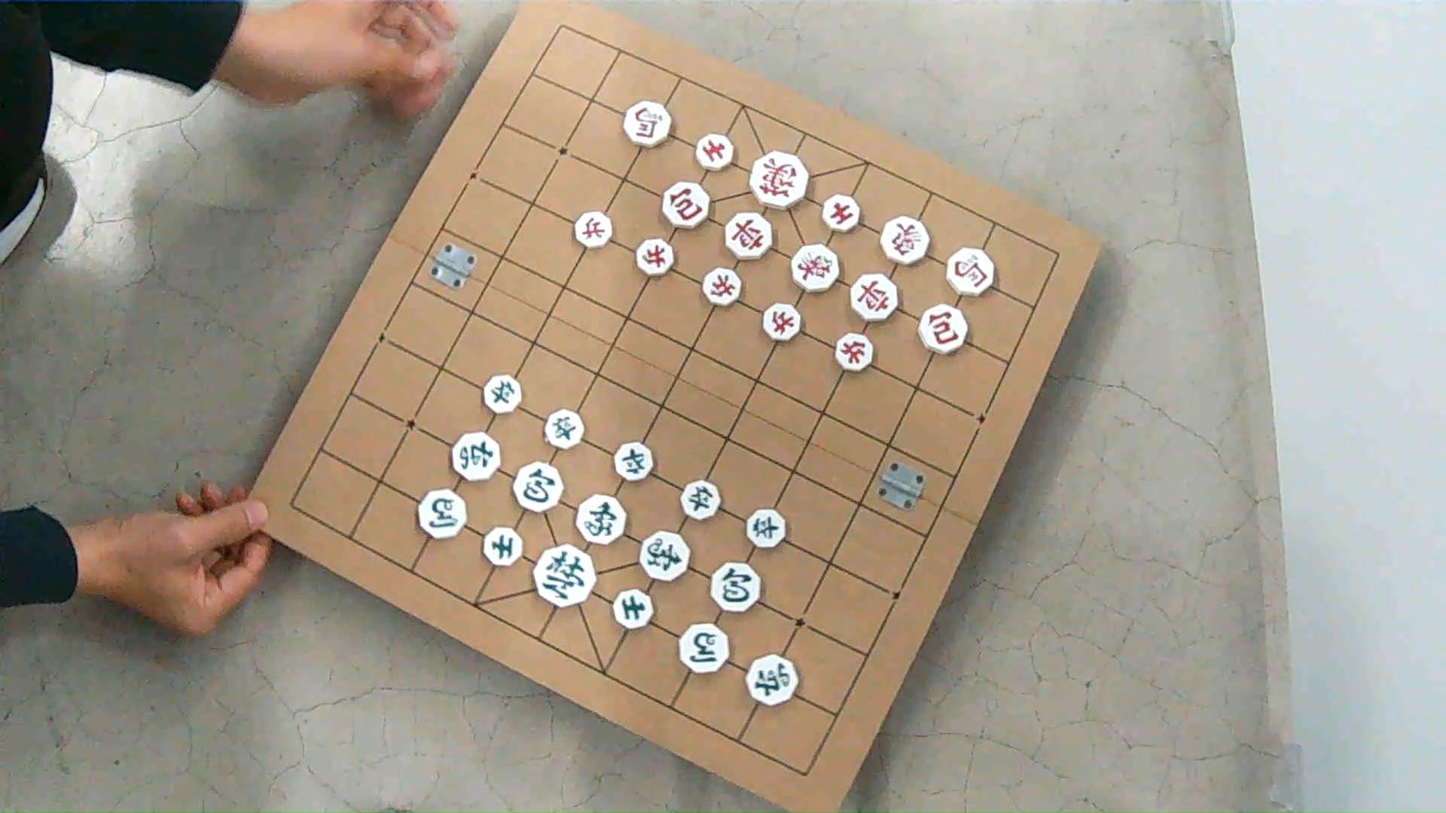cha_green: (745, 655, 798, 705), (450, 432, 499, 481)
cha_red: (850, 273, 898, 322), (725, 212, 772, 260)
jol_green: (680, 480, 720, 519), (746, 509, 786, 548), (544, 409, 583, 449), (483, 374, 521, 413), (615, 442, 651, 481)
jol_red: (762, 303, 801, 341), (702, 267, 740, 306), (835, 333, 874, 371), (574, 211, 612, 248), (635, 239, 673, 276)
ma_green: (679, 623, 728, 673), (417, 489, 465, 539)
ma_red: (945, 248, 994, 296), (624, 101, 670, 147)
po_green: (513, 461, 563, 512), (710, 562, 760, 612)
po_red: (918, 305, 967, 354), (661, 182, 708, 228)
sa_green: (612, 589, 653, 629), (483, 527, 521, 566)
sa_red: (822, 194, 859, 232), (696, 133, 733, 171)
sang_green: (639, 531, 688, 581), (575, 495, 625, 544)
sang_red: (880, 217, 929, 264), (790, 245, 839, 292)
wang_green: (534, 544, 593, 607)
wang_red: (750, 152, 808, 209)
